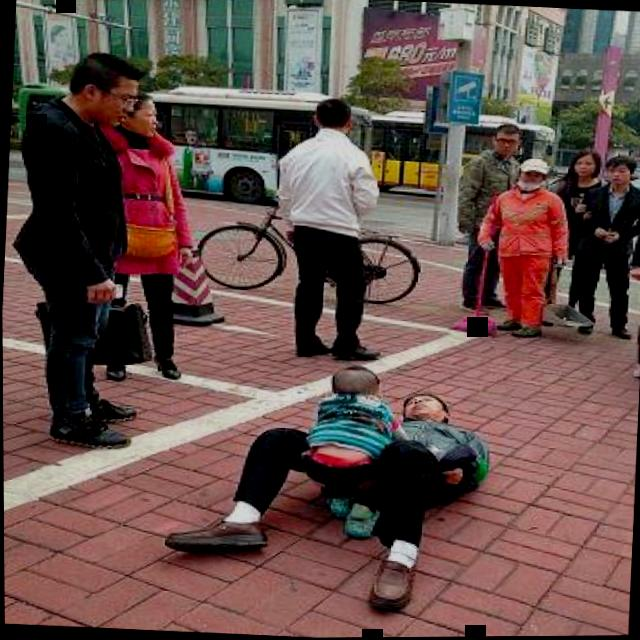Fall-Detected: (121, 349, 498, 626)
